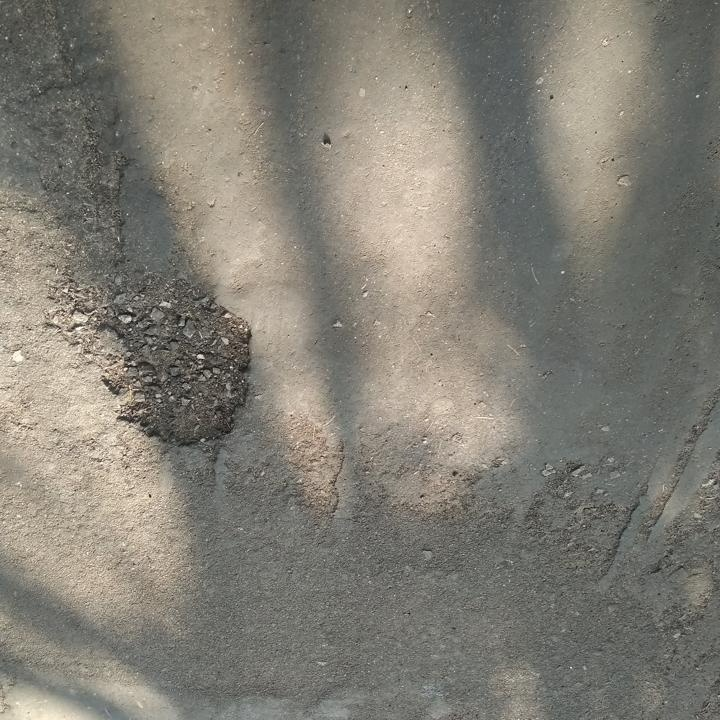pothole: (78, 283, 261, 453)
